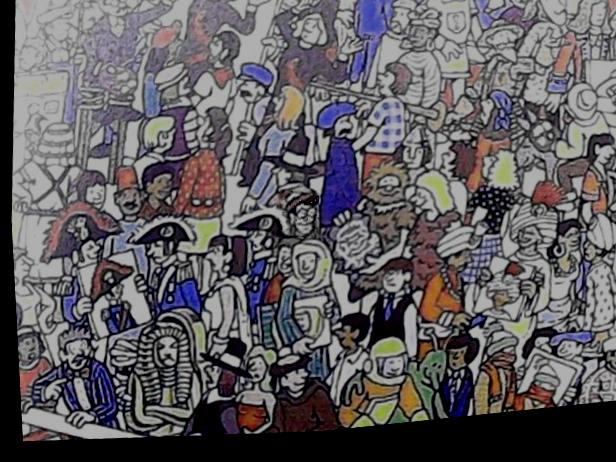waldo: (271, 192, 318, 247)
